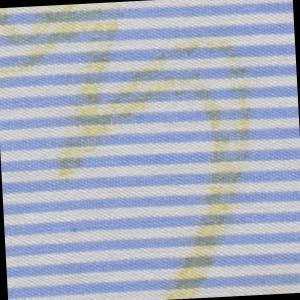Stain: (1, 1, 263, 300)
